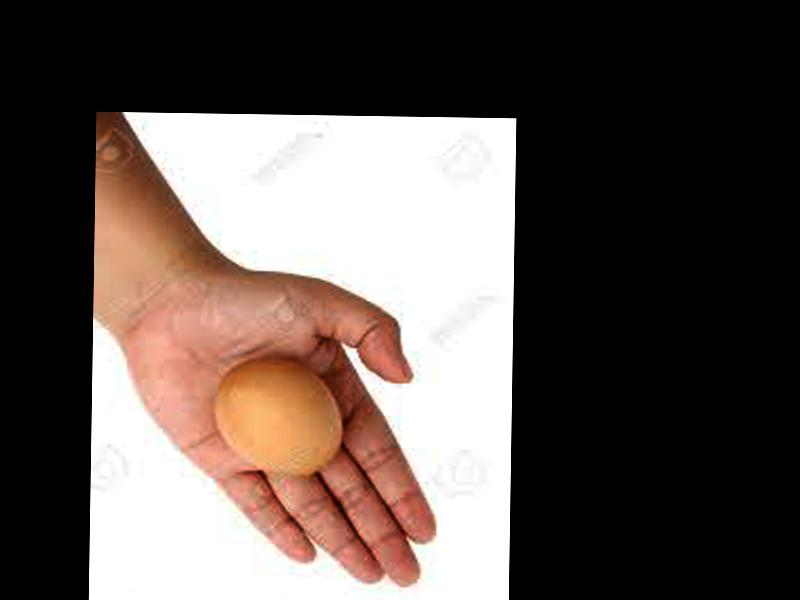Eggs: (214, 355, 342, 473)
